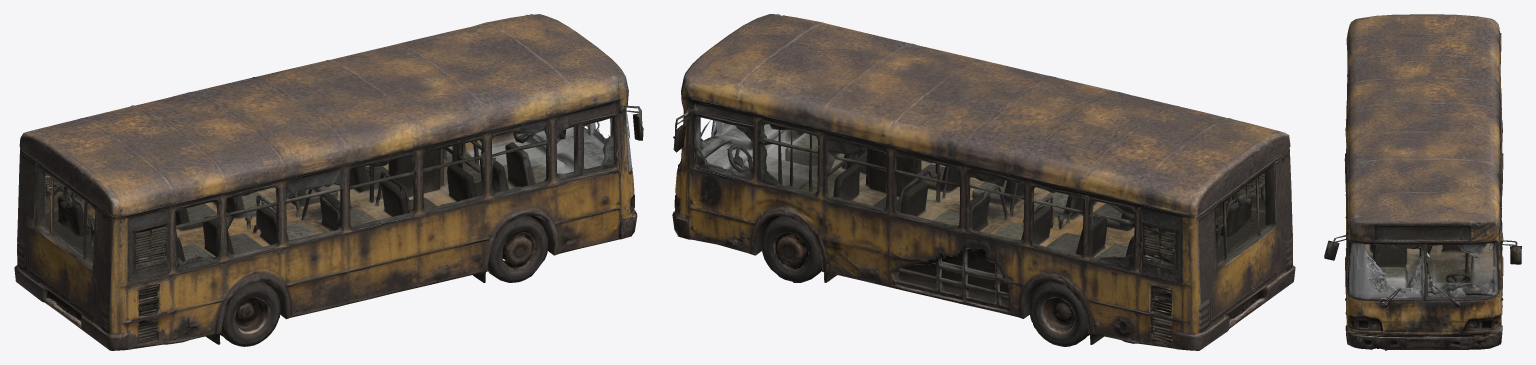
File: tripo_convert_746aaabf-b333-41bd-9c79-d3062b0ff5c6.fbx
3 renders of one model, left to right at view 1: azimuth 30°, elevation 25°; view 2: azimuth 150°, elevation 25°; view 3: azimuth 270°, elevation 25°, orthographic. The views are drawn at different scales.
Parts seen in each view (by area): view 1: tripo_node_746aaabf; view 2: tripo_node_746aaabf; view 3: tripo_node_746aaabf.
Part boxes in pixels (box(x1,y1,x2,y2)): tripo_node_746aaabf: box(14, 14, 643, 350); tripo_node_746aaabf: box(672, 14, 1295, 350); tripo_node_746aaabf: box(1324, 14, 1521, 350).
Bounding box in the file's own units: 0.9812 × 0.3318 × 0.3959.
Materials: 1 (1 with a texture image).
